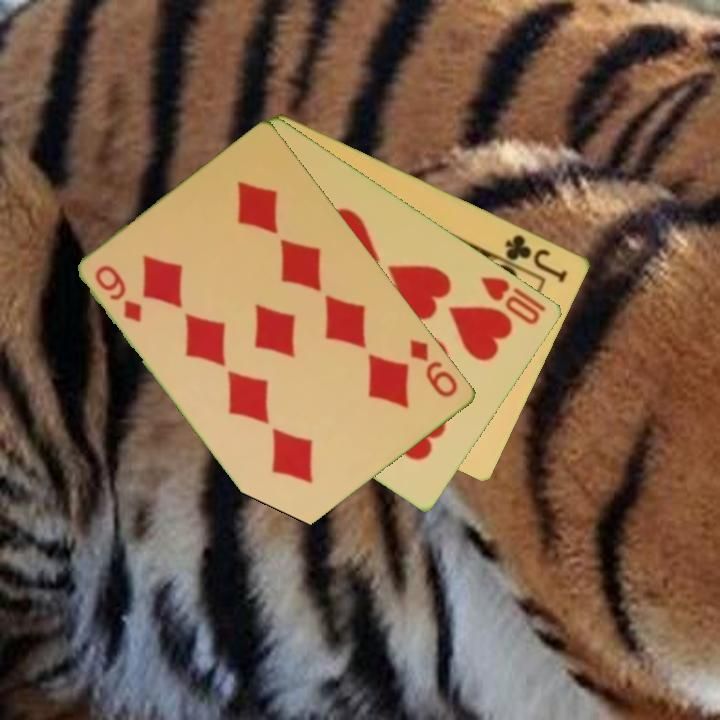10h: (477, 272, 549, 328)
9d: (406, 335, 462, 401), (92, 261, 146, 326)
Jc: (501, 230, 571, 285)
